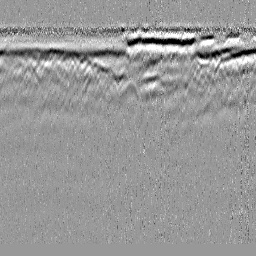cavity: (119, 78, 140, 100)
